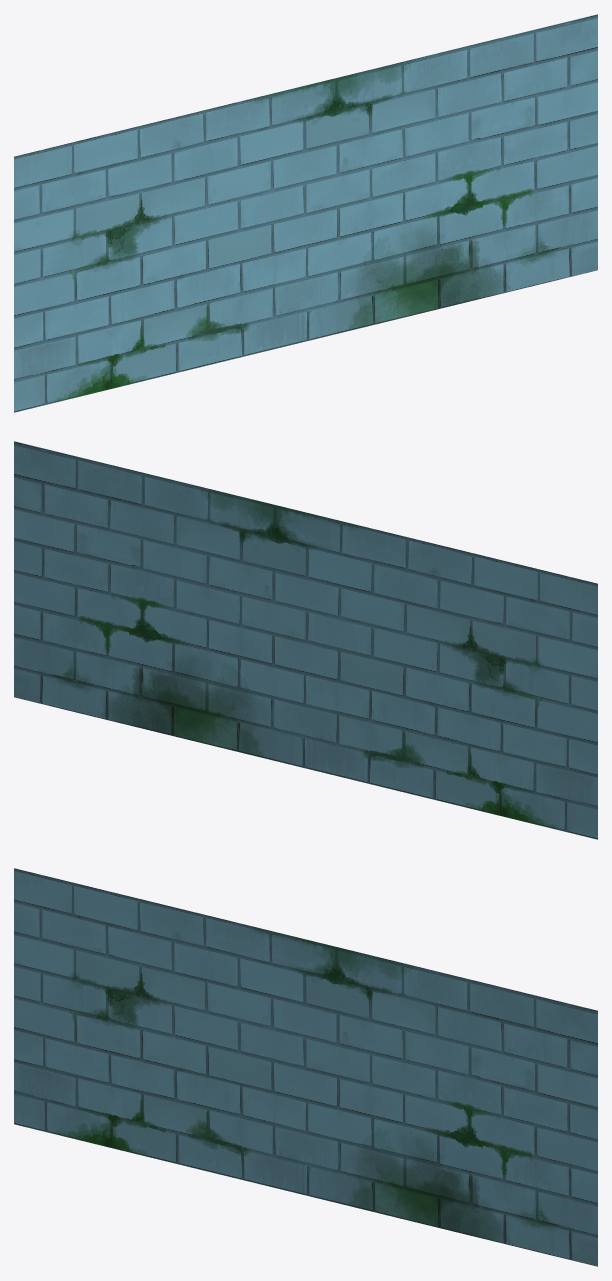
File: 2_wall.fbx
3 views of the same model, one above another, from view 1: azimuth 30°, elevation 25°; view 2: azimuth 150°, elevation 25°; view 3: azimuth 330°, elevation 25° (orthographic).
Visible parts, largest first — view 1: 2_wall; view 2: 2_wall; view 3: 2_wall.
Part boxes in pixels (x1=…): 2_wall: x1=14, y1=14, x2=597, y2=412; 2_wall: x1=14, y1=441, x2=597, y2=839; 2_wall: x1=14, y1=868, x2=597, y2=1266.
Bounding box in the file's own units: 354 × 0 × 148.
1 material, 1 textured.
